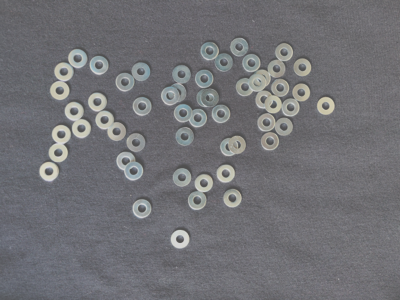circle: (47, 78, 72, 101), (51, 59, 75, 81), (49, 124, 73, 146), (273, 39, 295, 62), (68, 47, 91, 69), (90, 54, 112, 76), (39, 160, 60, 183), (46, 143, 70, 163), (228, 37, 249, 59), (65, 100, 86, 122), (72, 118, 93, 139), (216, 164, 237, 185), (292, 58, 314, 78), (86, 92, 108, 112), (124, 132, 146, 152), (171, 166, 191, 188), (187, 191, 209, 211), (131, 62, 152, 82), (196, 87, 216, 108), (115, 152, 136, 172), (176, 127, 195, 149), (124, 162, 146, 181), (201, 42, 221, 62), (214, 52, 234, 72), (260, 132, 280, 152), (132, 199, 152, 219), (195, 173, 215, 193), (171, 229, 191, 249), (267, 60, 288, 79), (172, 65, 193, 84), (108, 121, 127, 142), (275, 117, 294, 138), (195, 70, 215, 89), (116, 73, 135, 93), (95, 111, 115, 130), (160, 86, 180, 105), (292, 83, 312, 102), (281, 98, 301, 117), (316, 95, 335, 115), (220, 138, 238, 159), (223, 189, 244, 207), (253, 69, 272, 88), (134, 97, 153, 116), (174, 103, 193, 122), (202, 89, 221, 108), (212, 104, 231, 123), (189, 109, 208, 128), (167, 84, 187, 102), (255, 90, 273, 110), (272, 78, 290, 98), (243, 53, 261, 72), (236, 78, 254, 97), (229, 136, 247, 154), (257, 114, 276, 131), (249, 74, 266, 92), (265, 96, 282, 114)
